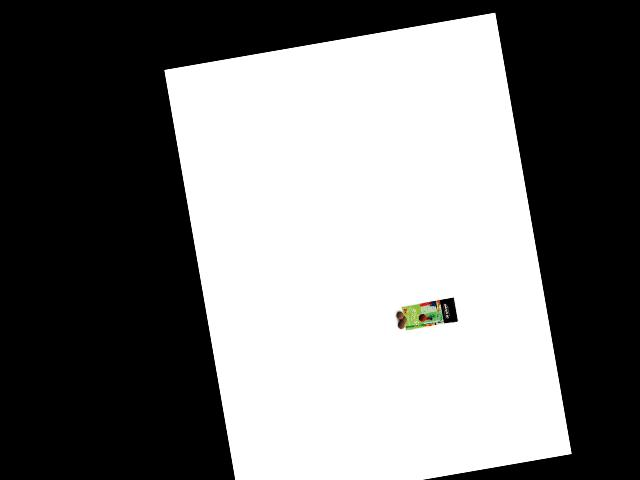chocolate: (400, 293, 461, 336)
